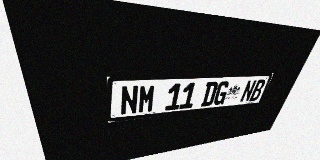1: (165, 83, 184, 111), (179, 82, 198, 109)
B: (249, 79, 266, 101)
D: (200, 82, 219, 107)
G: (212, 81, 231, 105)
M: (138, 84, 156, 114)
N: (120, 85, 139, 116), (239, 80, 257, 102)
